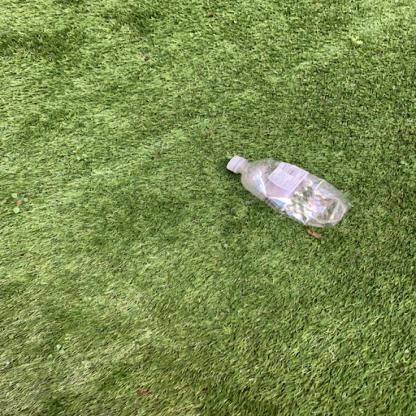trash: (222, 152, 352, 235)
